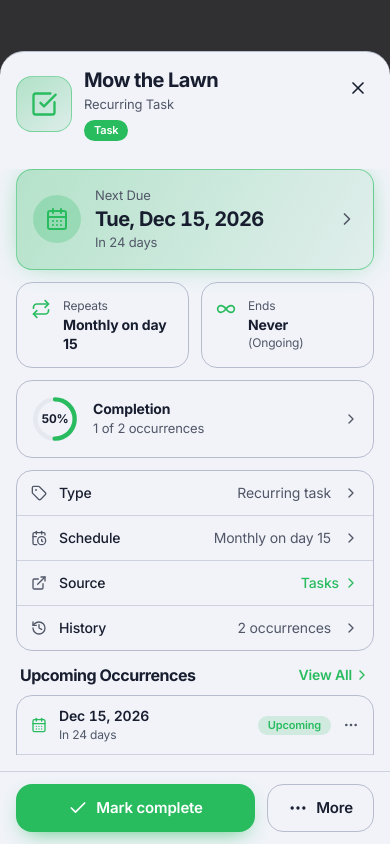
a recurring task: one date at a time › lists each action with how far it reaches
Expected: the button with test id "cal-action-complete" reads "Mark complete", [16, 784, 255, 832]
Click the button with test id "cal-view-all": (334, 675) [299, 665, 370, 685]
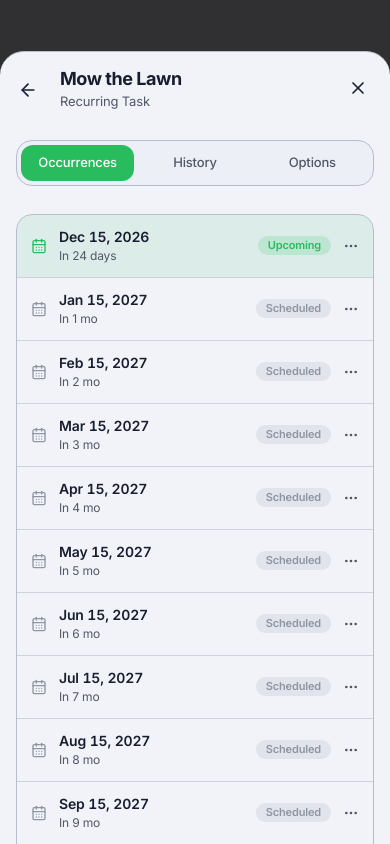
Click the button with test id "cal-occ-2026-12-15": (104, 236) [17, 215, 373, 277]
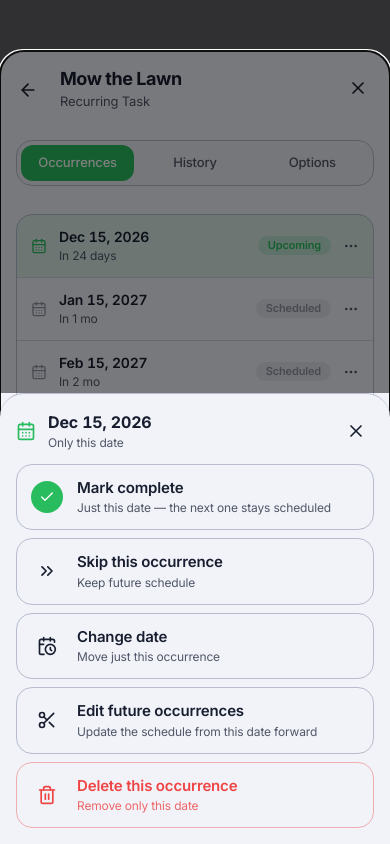
Now the text with test id "cal-action-sheet-title" reads "Dec 15, 2026", box [48, 412, 152, 432]
Now the button with test id "cal-menu-complete" shows "the next one stays scheduled", box [16, 464, 374, 530]
Now the button with test id "cal-menu-skip" shows "Keep future schedule", box [16, 538, 374, 604]
